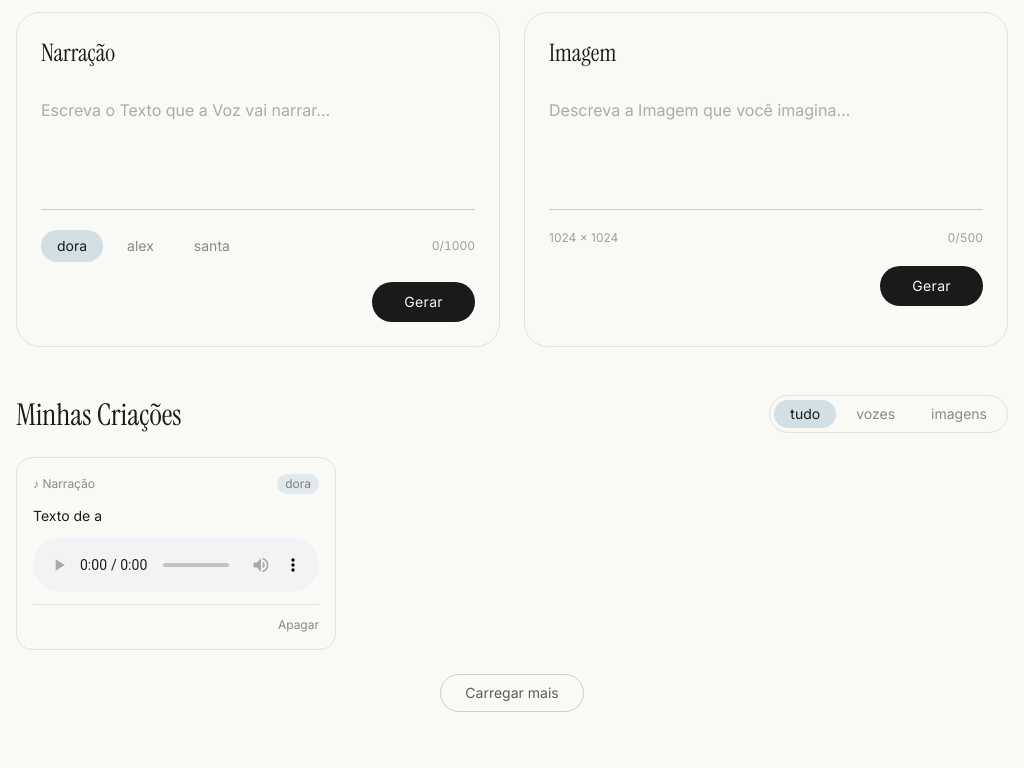
Scenario: Estudio: Biblioteca › 'Carregar mais' traz a próxima página
(page scrolled)
What coordinates should you click on to do the following:
click the button "Carregar mais"
I would click on:
 (512, 693)
Its box is [440, 674, 584, 712].
(page scrolled)
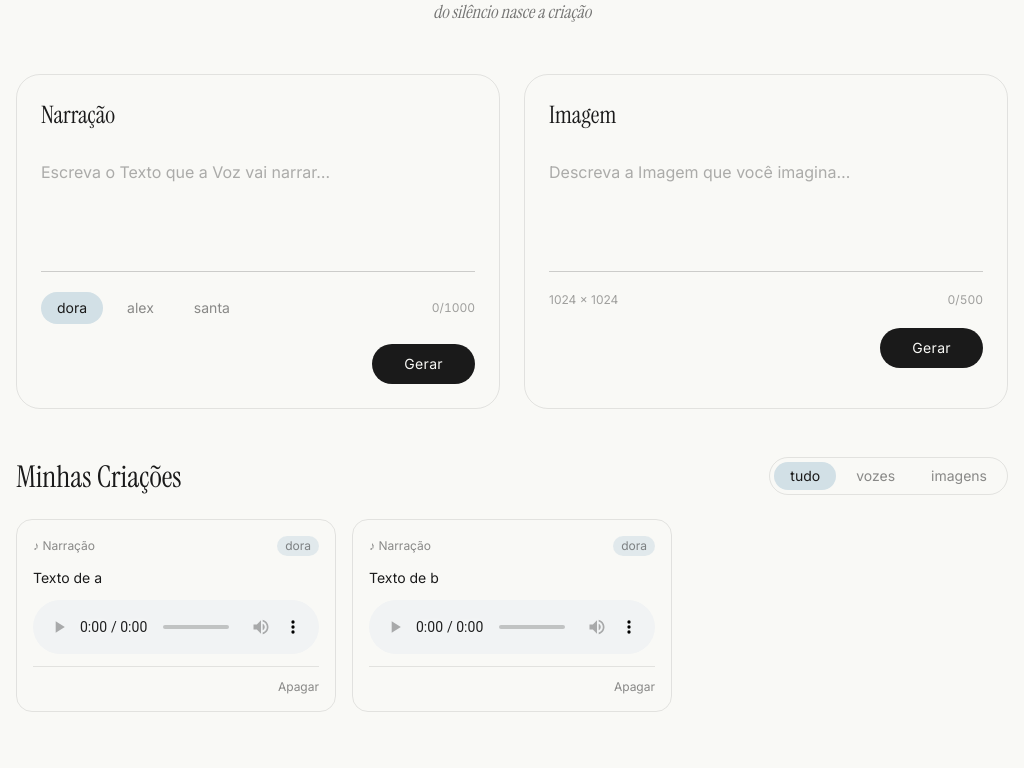
Expected: the element named "Ouvir: Texto de a" is shown, [33, 600, 319, 654]
Expected: the element named "Ouvir: Texto de b" is shown, [369, 600, 655, 654]
Expected: the button "Carregar mais" is gone
